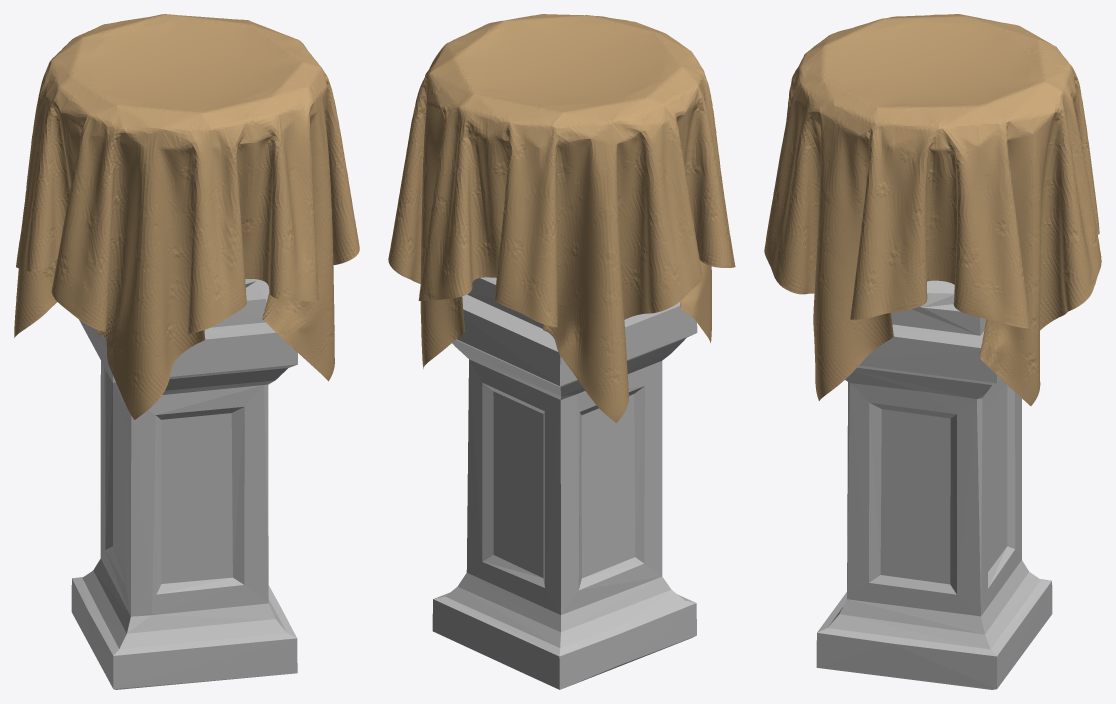
File: level_4.glb
3 renders of one model, left to right at view 1: azimuth 30°, elevation 25°; view 2: azimuth 150°, elevation 25°; view 3: azimuth 270°, elevation 25°, orthographic.
Visible parts, largest first — view 1: world, object.obj; view 2: world, object.obj; view 3: world, object.obj.
Part boxes in pixels (box(x1,y1,x2,y2)): world: box(14, 14, 359, 419); object.obj: box(71, 279, 297, 689); world: box(388, 14, 735, 422); object.obj: box(432, 277, 697, 689); world: box(764, 14, 1101, 405); object.obj: box(816, 280, 1052, 689).
Size of the model in its own units: 0.2489 by 0.4811 by 0.2538.
